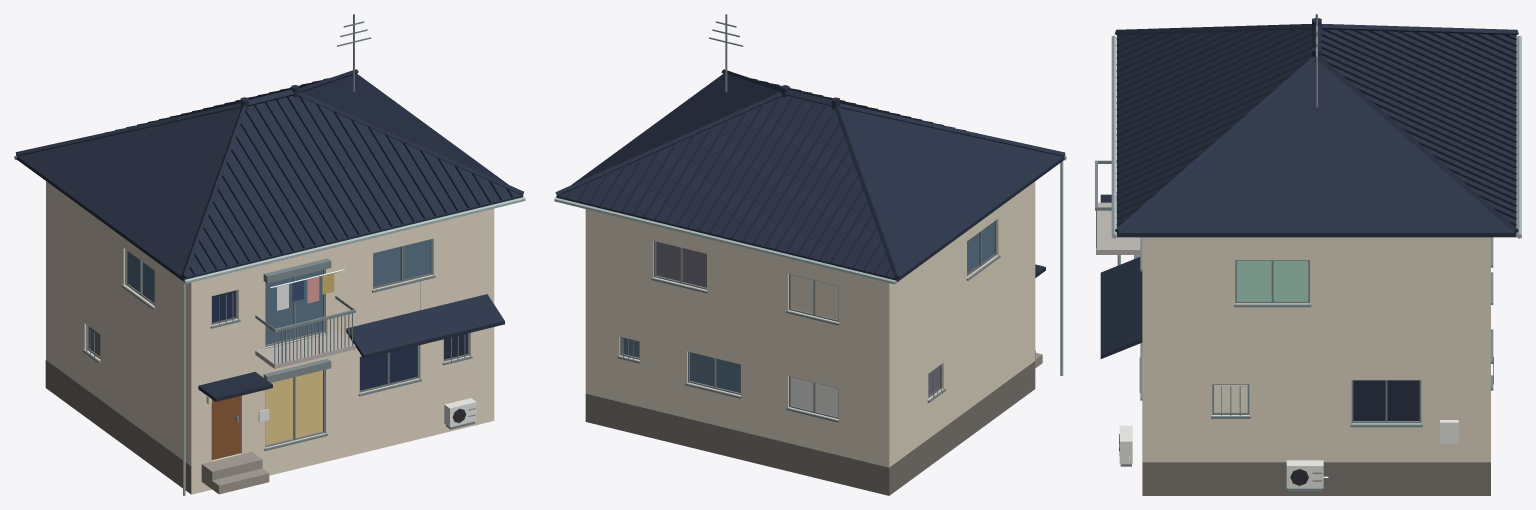
Rendered from tb_house_tile_2f_01.fbx.
The picture shows the model from 3 angles, left to right: view 1: azimuth 30°, elevation 25°; view 2: azimuth 150°, elevation 25°; view 3: azimuth 270°, elevation 25°; orthographic projection. The views are drawn at different scales.
Visible parts, largest first — view 1: tb_house_tile_2f_01; view 2: tb_house_tile_2f_01; view 3: tb_house_tile_2f_01.
Boxes of the visible parts, bbox=[...] form: tb_house_tile_2f_01: bbox=[14, 14, 525, 495]; tb_house_tile_2f_01: bbox=[554, 14, 1066, 495]; tb_house_tile_2f_01: bbox=[1095, 14, 1521, 495].
Size of what is drawn, in the model's own units: 10.2 by 10.5 by 9.18.
Materials: 3 (3 with a texture image).
